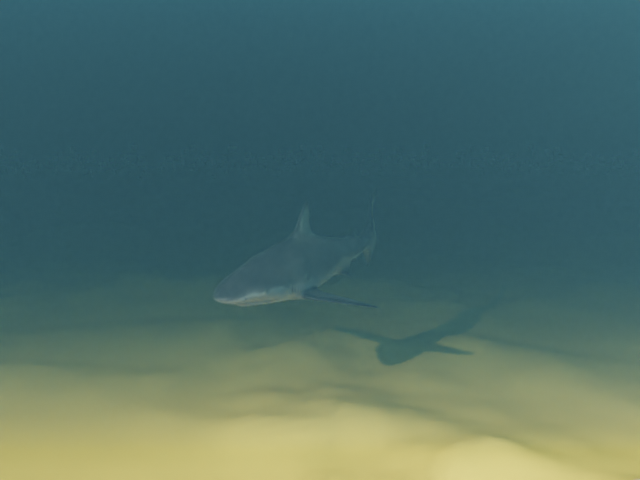Carribean Shark.001: (213, 186, 379, 308)
